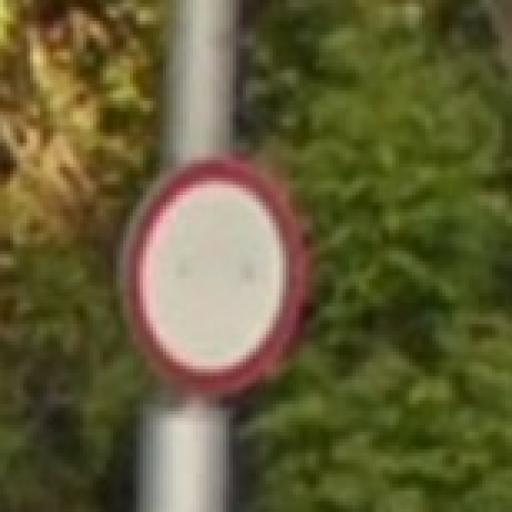traffic_sign: (121, 161, 300, 395)
